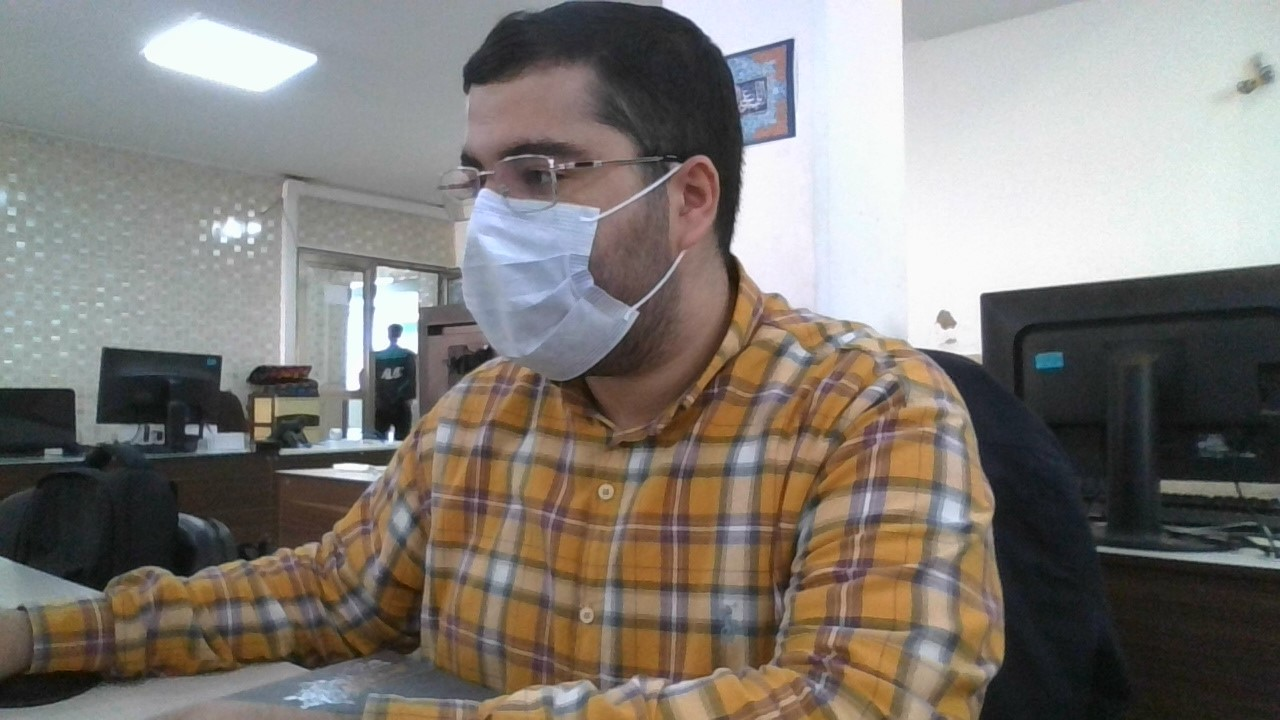Mask: (456, 188, 678, 386)
